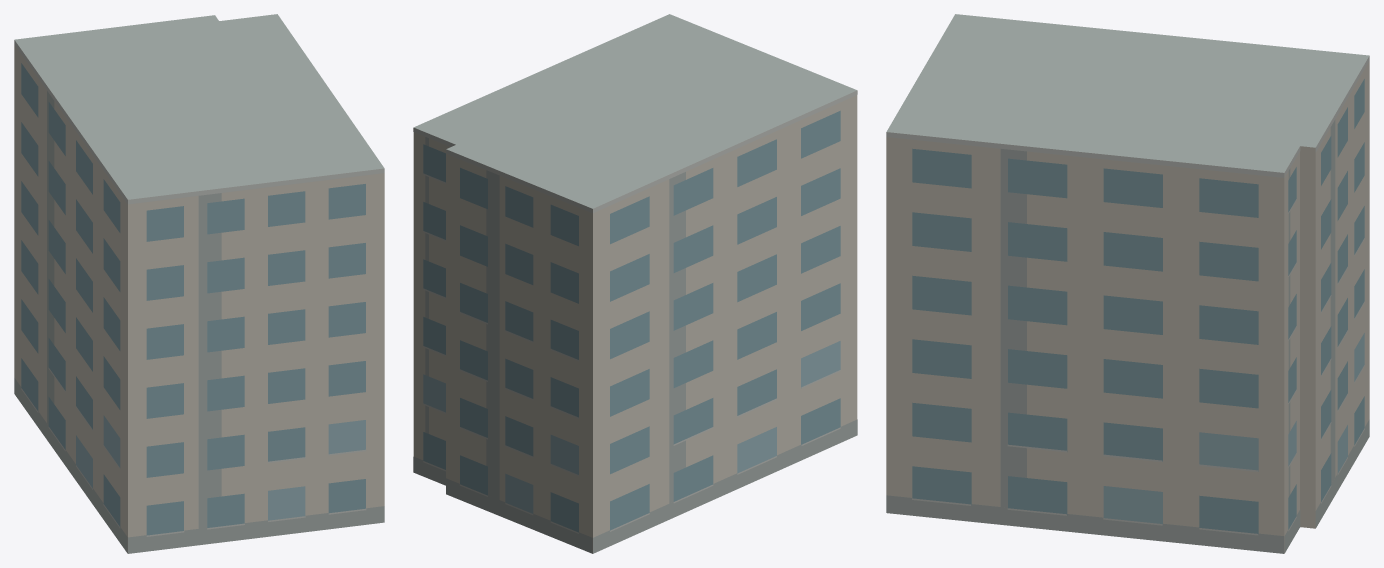
Rendered from survey-upis-32975921.glb.
The picture shows the model from 3 angles, left to right: view 1: azimuth 30°, elevation 25°; view 2: azimuth 150°, elevation 25°; view 3: azimuth 270°, elevation 25°; orthographic projection. The views are drawn at different scales.
Visible parts, largest first — view 1: survey-upis-32975921.tmp; view 2: survey-upis-32975921.tmp; view 3: survey-upis-32975921.tmp.
Boxes of the visible parts, x1,y1,x2,y2 form: survey-upis-32975921.tmp: [14, 14, 384, 553]; survey-upis-32975921.tmp: [413, 14, 857, 553]; survey-upis-32975921.tmp: [886, 14, 1369, 553].
Bounding box in the file's own units: 16.65 × 18.6 × 21.39.
